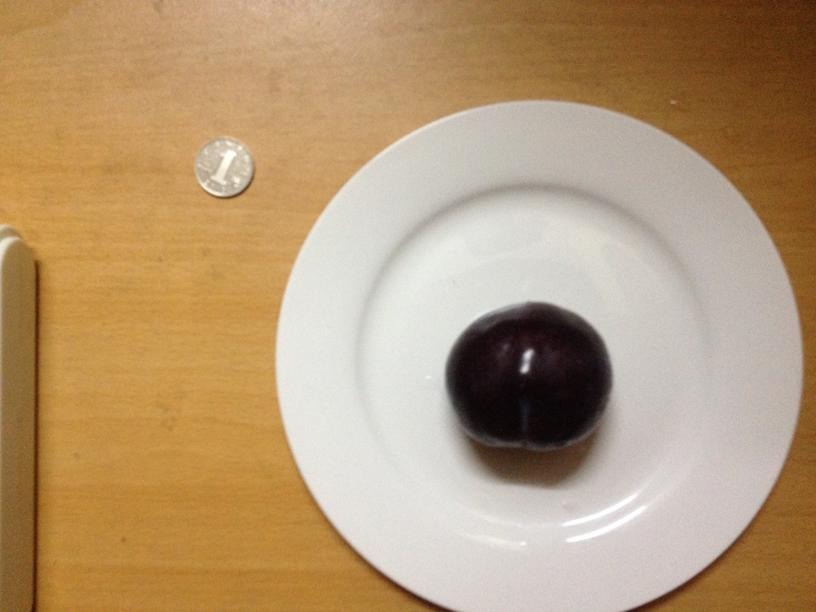coin: (188, 136, 255, 200)
plum: (445, 302, 616, 453)
